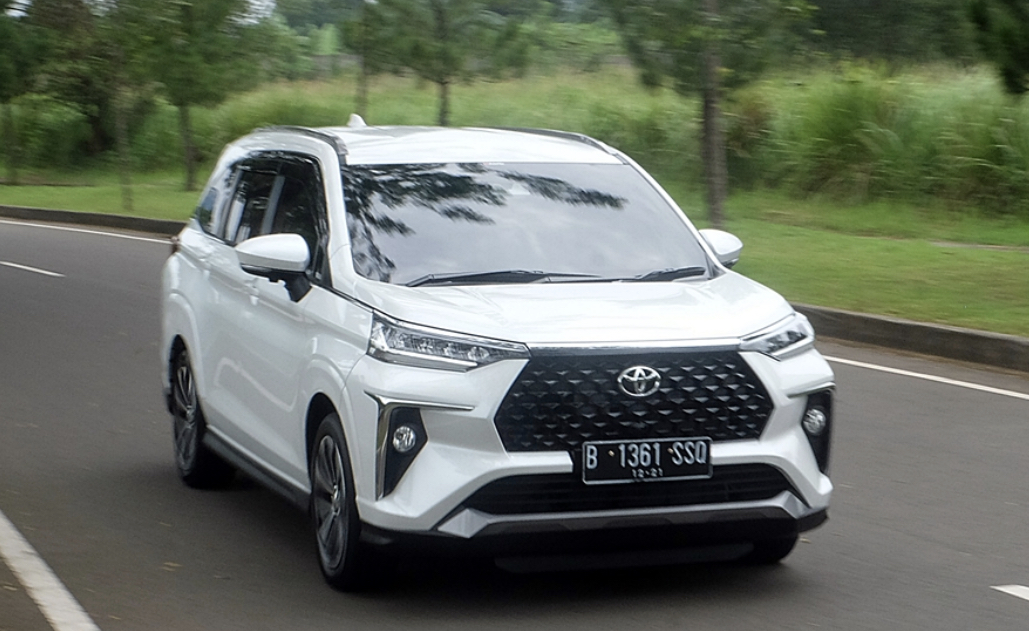Mobil: (568, 433, 725, 497)
Motor: (140, 110, 842, 617)
